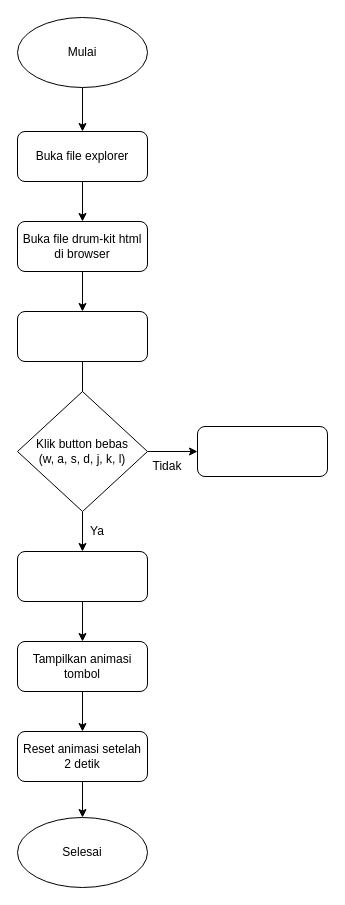
This 345x905 diagram has some shape labels left out. The box of each missing label's shape, as (x1, y1, x2, y2) in pixels:
Bunyi suara sesuai button: (16, 550, 148, 602)
Tidak berbunyi (invalid key): (196, 426, 328, 476)
Tunggu input: (16, 310, 148, 362)
